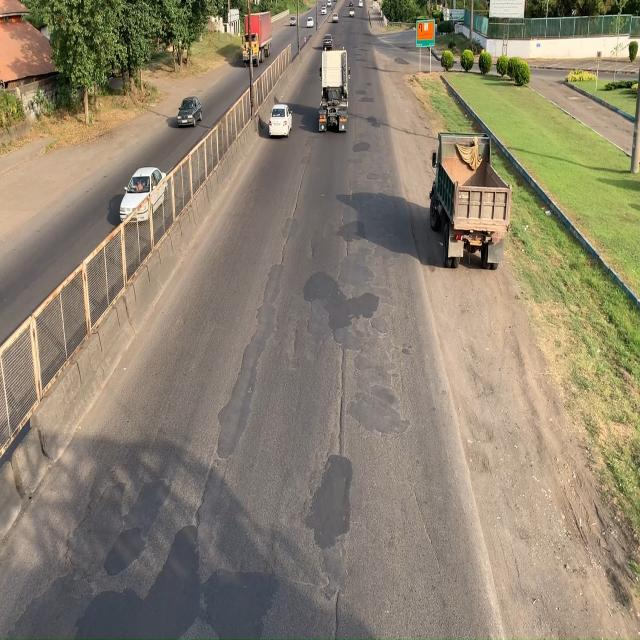Truck: (429, 124, 513, 276), (318, 46, 353, 134), (242, 7, 275, 67)
cars: (118, 156, 169, 228), (175, 87, 206, 132), (270, 99, 293, 140)
